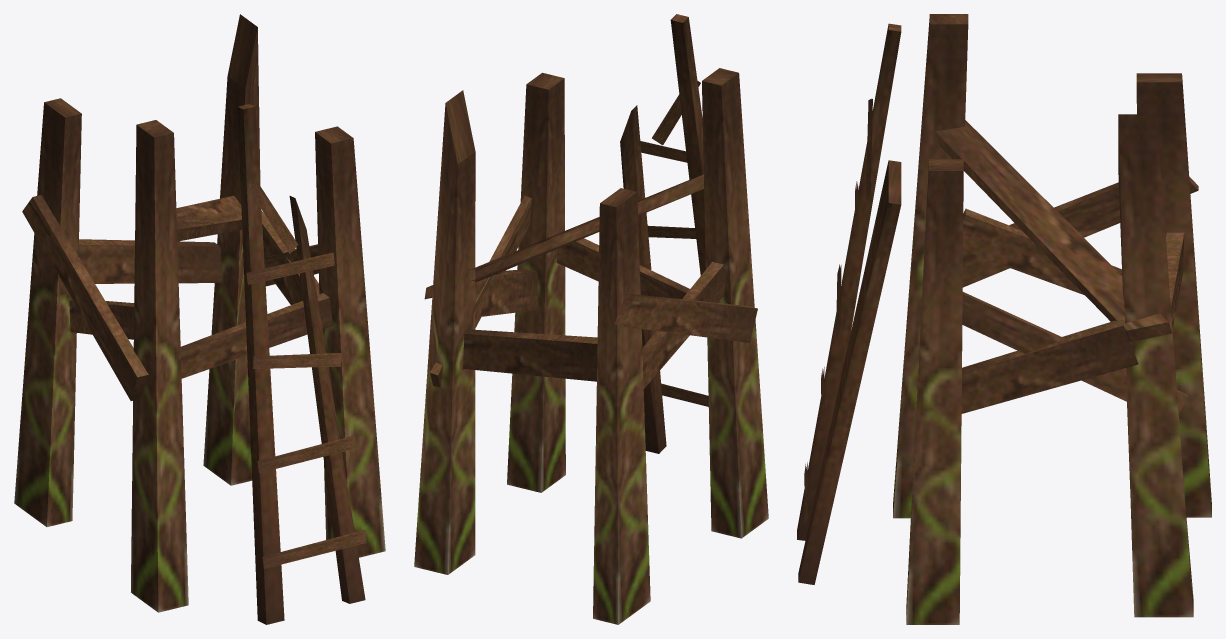
File: prop_0164.FBX
3 renders of one model, left to right at view 1: azimuth 30°, elevation 25°; view 2: azimuth 150°, elevation 25°; view 3: azimuth 270°, elevation 25°, orthographic. The views are drawn at different scales.
Parts seen in each view (by area): view 1: prop_0164; view 2: prop_0164; view 3: prop_0164.
Boxes of the visible parts, left/top/right/bottom form: prop_0164: left=14, top=14, right=385, bottom=624; prop_0164: left=414, top=14, right=768, bottom=624; prop_0164: left=797, top=14, right=1211, bottom=624.
Bounding box in the file's own units: 11.66 × 22.63 × 16.3.
